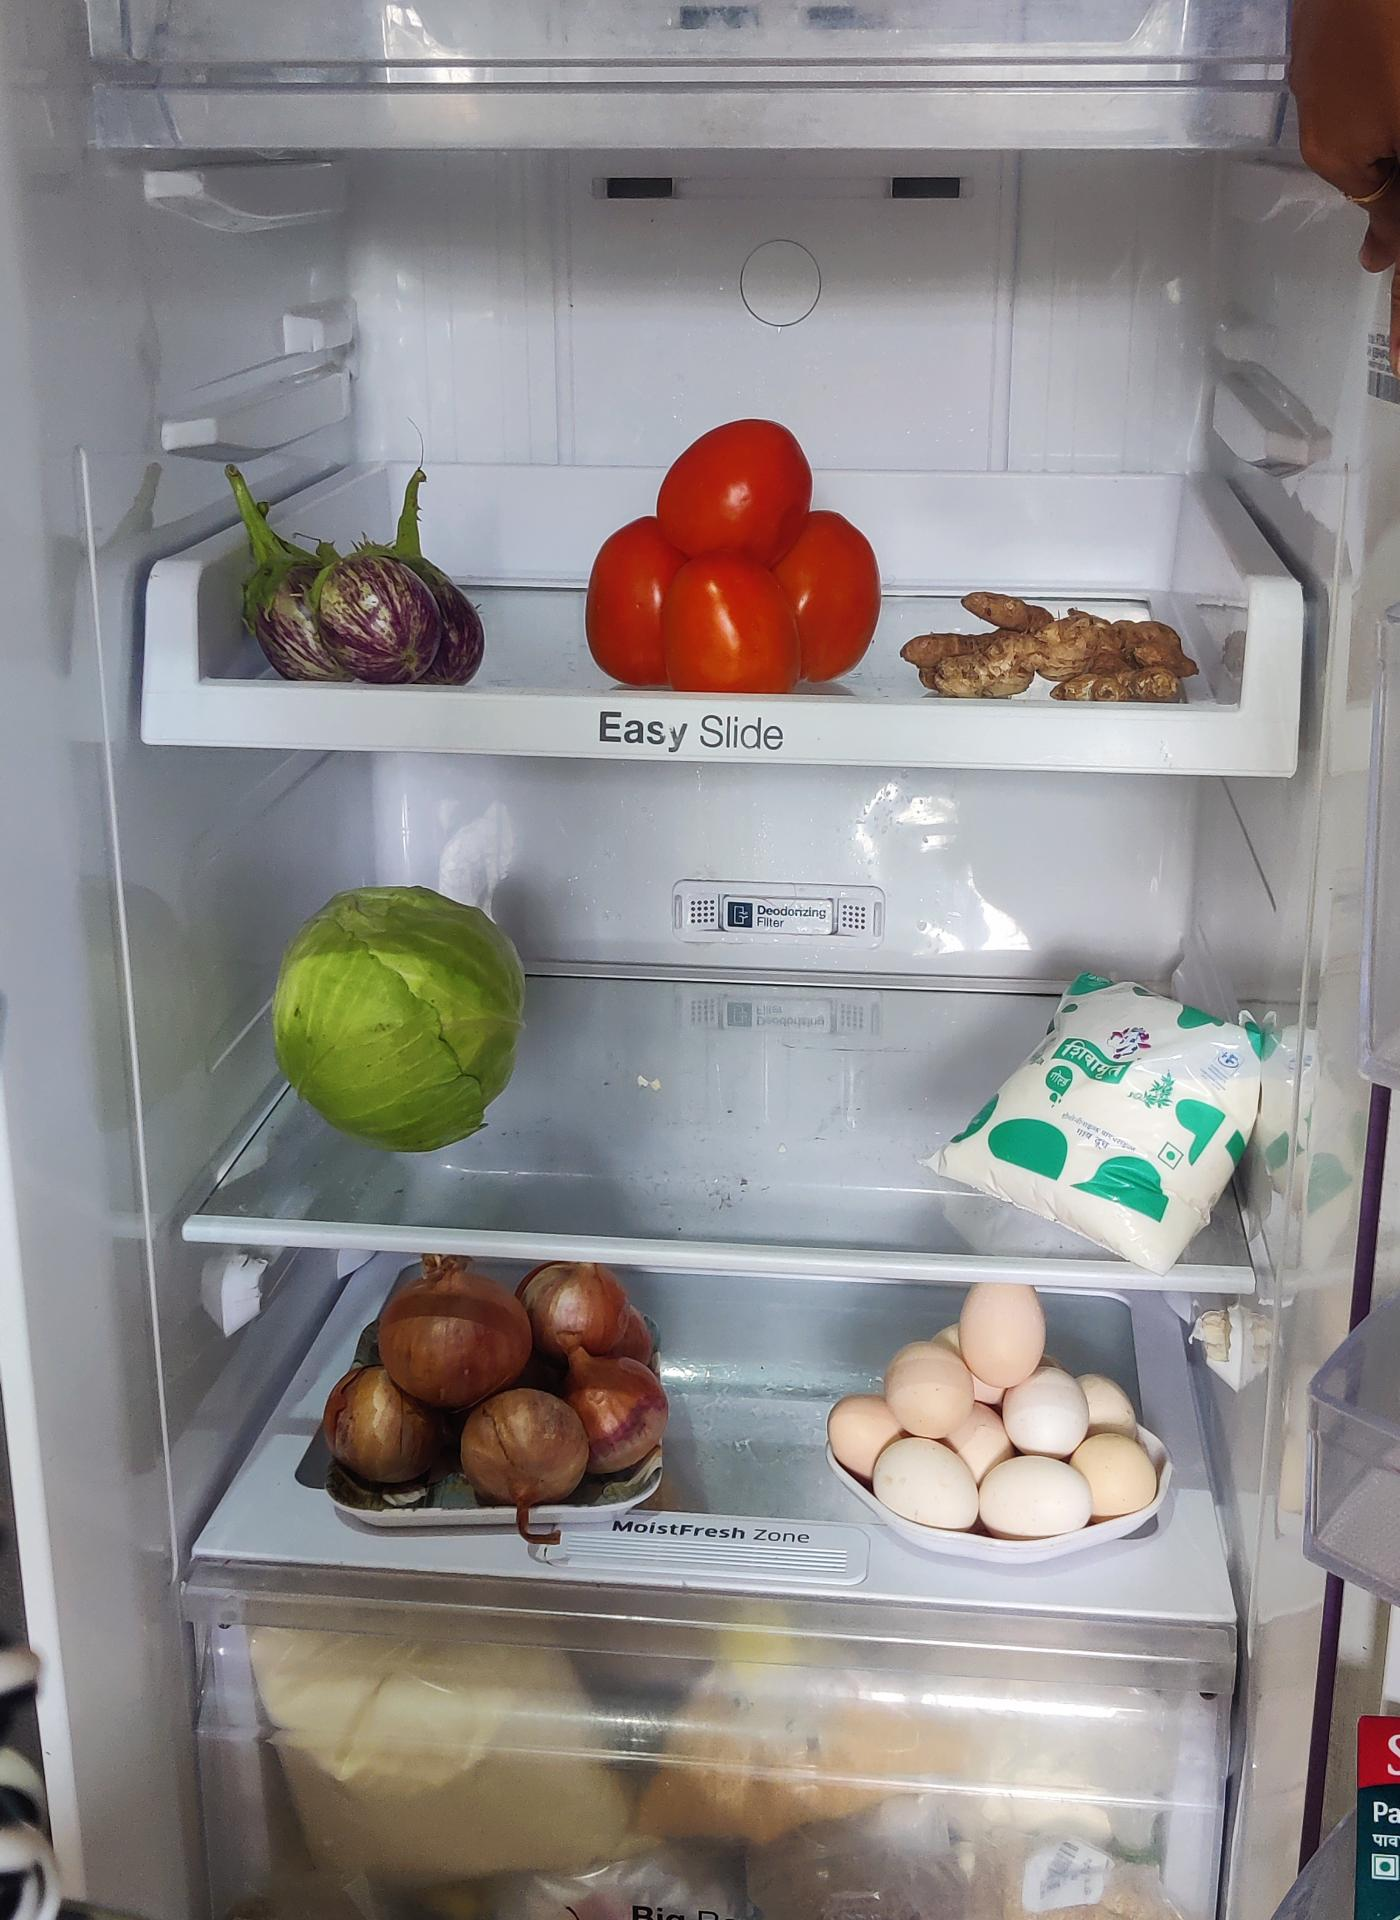brinjal: (226, 524, 482, 686)
cabbage: (276, 880, 532, 1142)
egg: (821, 1273, 1160, 1526)
ginger: (900, 585, 1196, 700)
milk: (938, 965, 1267, 1258)
onion: (320, 1266, 669, 1514)
tomato: (589, 417, 883, 692)
